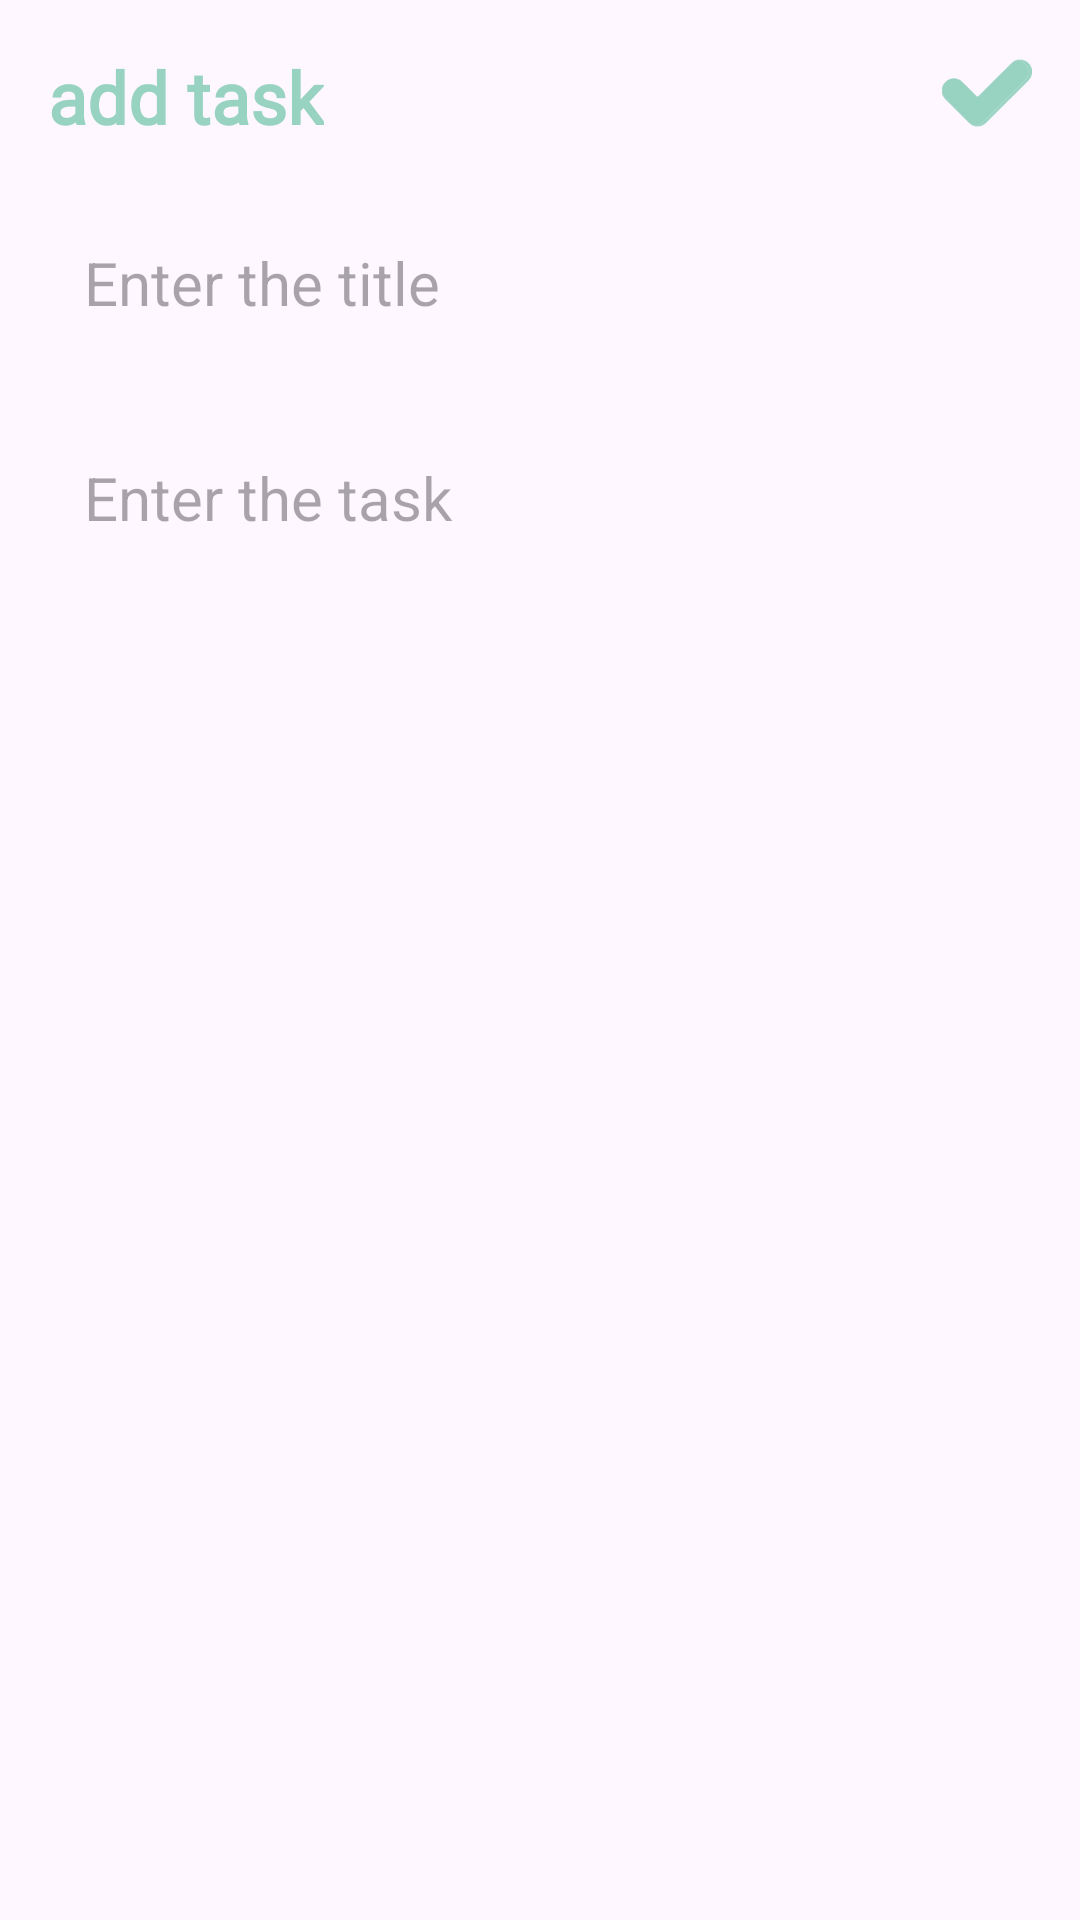

Where icons sit on this 1080px x 1920px app screen, as region(x1, y1, x2, y2):
done: region(942, 59, 1032, 127)
